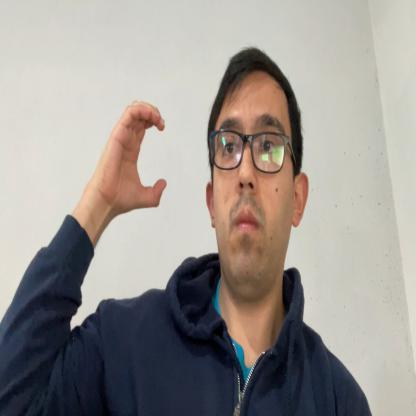C: (100, 99, 167, 212)
